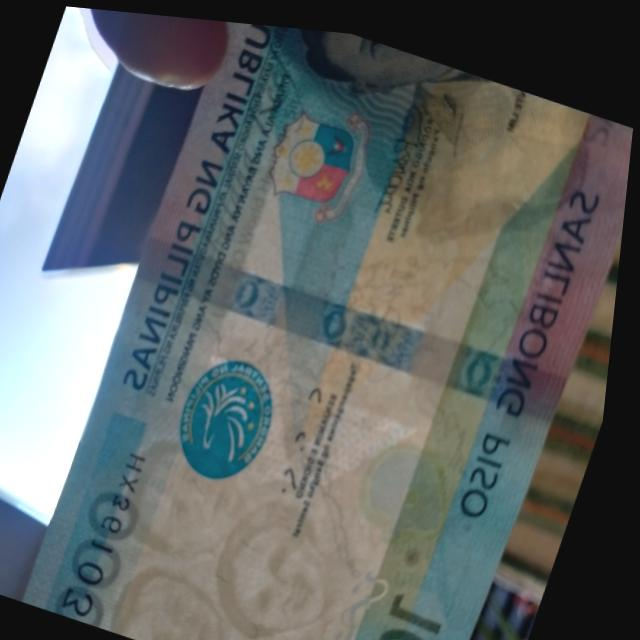security_thread: (127, 227, 582, 413)
see_through_mark: (318, 533, 423, 640)
serial_number: (65, 432, 166, 626)
watermark: (91, 409, 401, 640)
